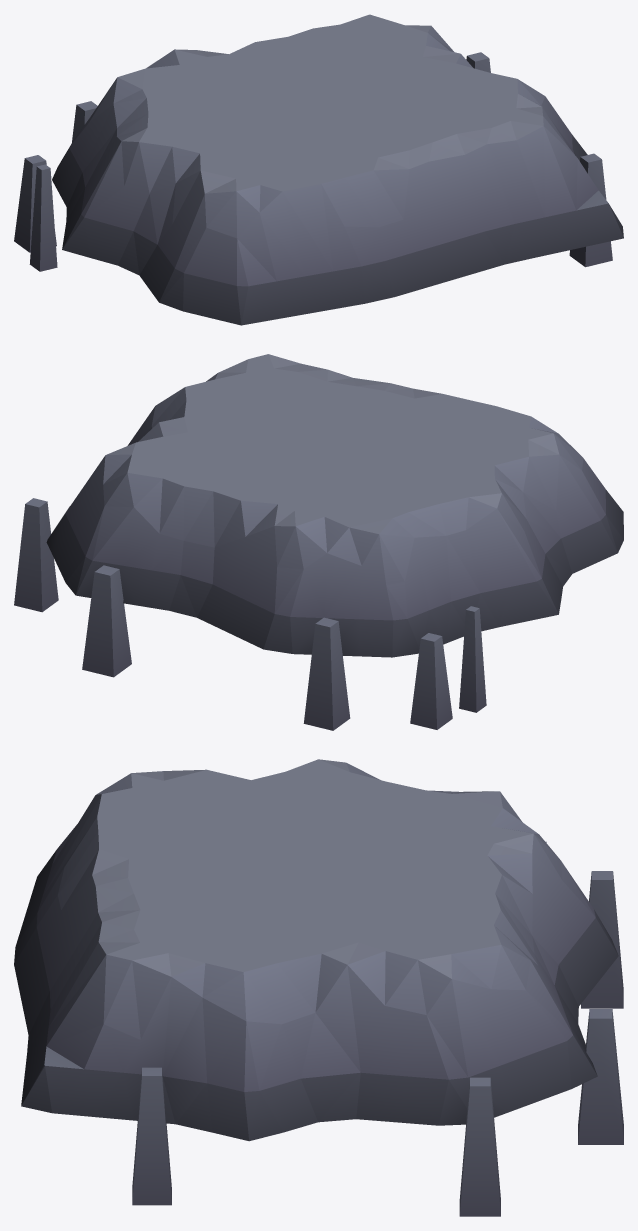
File: fortress-headland.glb
3 views of the same model, one above another, from view 1: azimuth 30°, elevation 25°; view 2: azimuth 150°, elevation 25°; view 3: azimuth 270°, elevation 25° (orthographic). The views are drawn at different scales.
Parts seen in each view (by area): view 1: headland; view 2: headland; view 3: headland.
Part boxes in pixels (x1,y1,x2,y2): headland: (14,14,623,325); headland: (14,354,623,730); headland: (14,759,623,1216).
Size of the model in its own units: 17.16 by 5.4 by 14.77.
